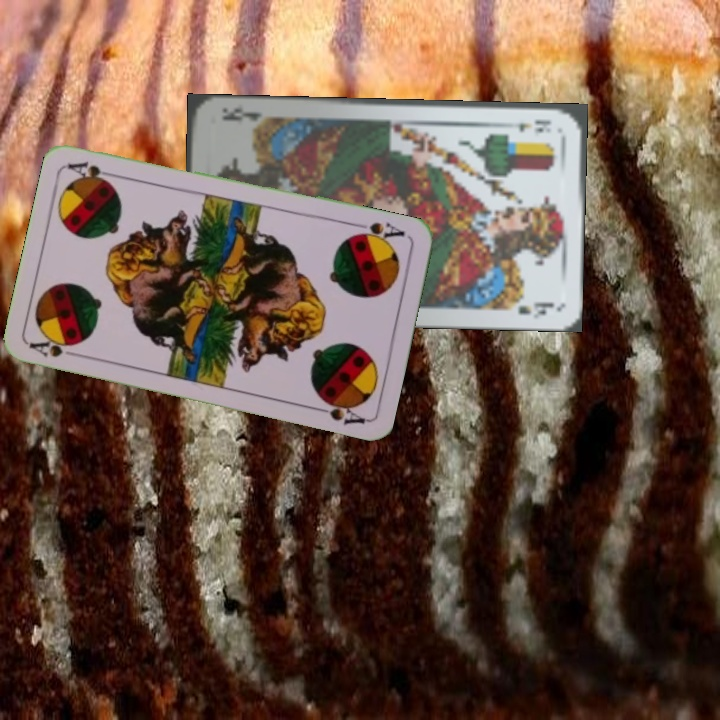EK: (502, 116, 554, 136)
SA: (26, 330, 85, 361), (349, 218, 408, 246)
